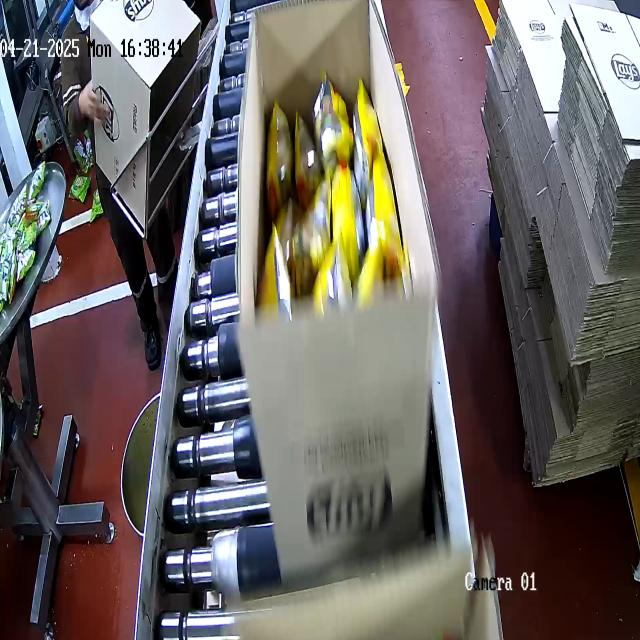SALTED: (258, 71, 396, 316)
